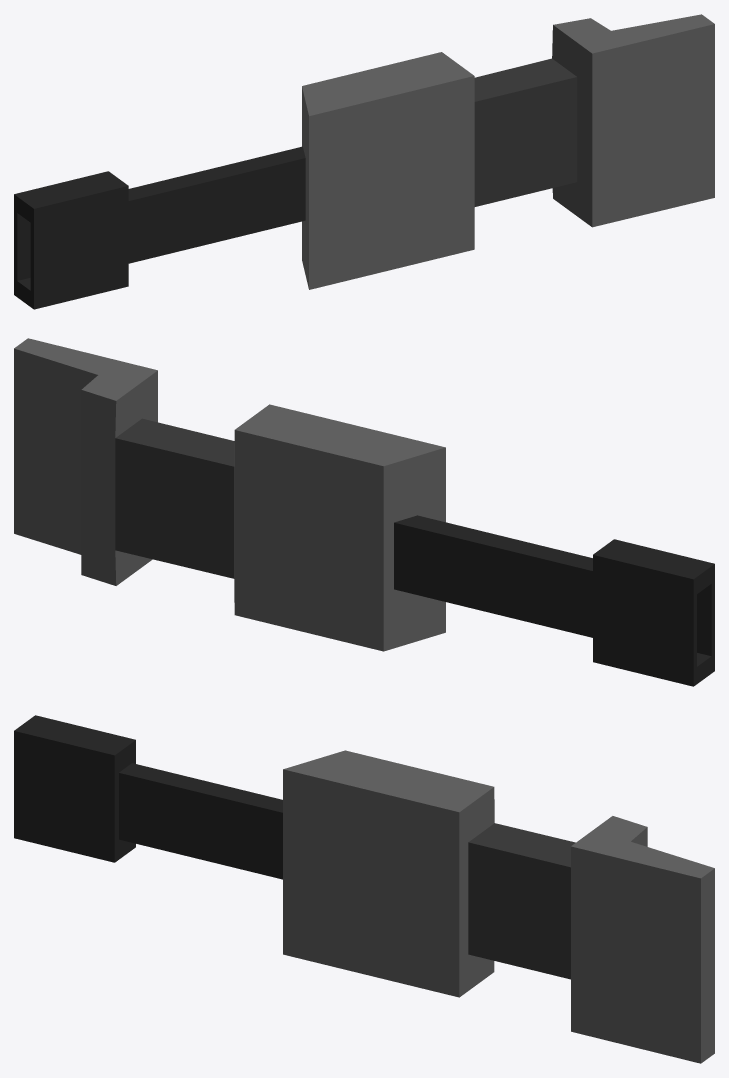
Rendered from sniper_upper_authored.obj.
3 views of the same model, one above another, from view 1: azimuth 30°, elevation 25°; view 2: azimuth 150°, elevation 25°; view 3: azimuth 330°, elevation 25° (orthographic). The views are drawn at different scales.
Parts seen in each view (by area): view 1: Upper_Body; view 2: Upper_Body; view 3: Upper_Body.
Boxes of the visible parts, bbox=[...] form: Upper_Body: bbox=[14, 14, 714, 309]; Upper_Body: bbox=[14, 338, 714, 686]; Upper_Body: bbox=[14, 715, 714, 1063].
Size of the model in its own units: 9.03 by 2.26 by 0.9556.
1 material, 1 textured.
